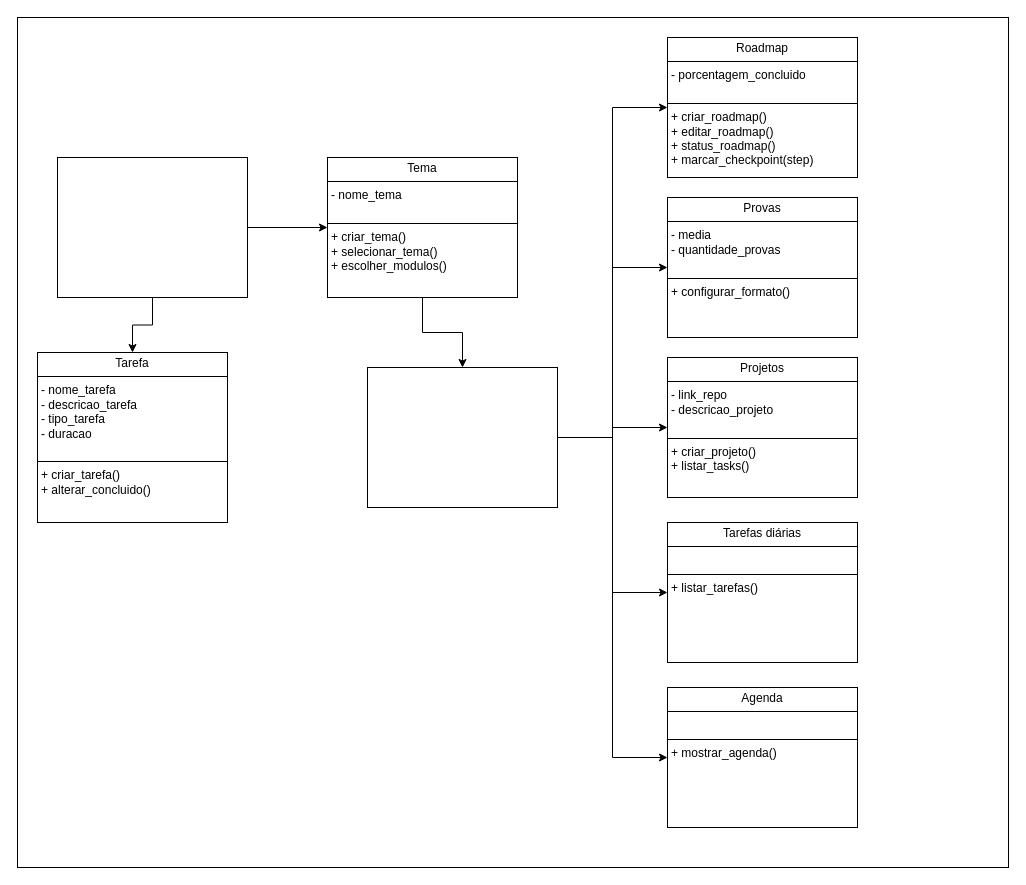
This 1026x885 diagram has some shape labels left out. The centre of each missing label's shape, as x and y in pixels:
"Modulos - nome_modulo - tema_associado" belongs at [462,437].
"Usuário - nome_usuario - senha + cadastrar() + autenticar()" belongs at [152,227].
